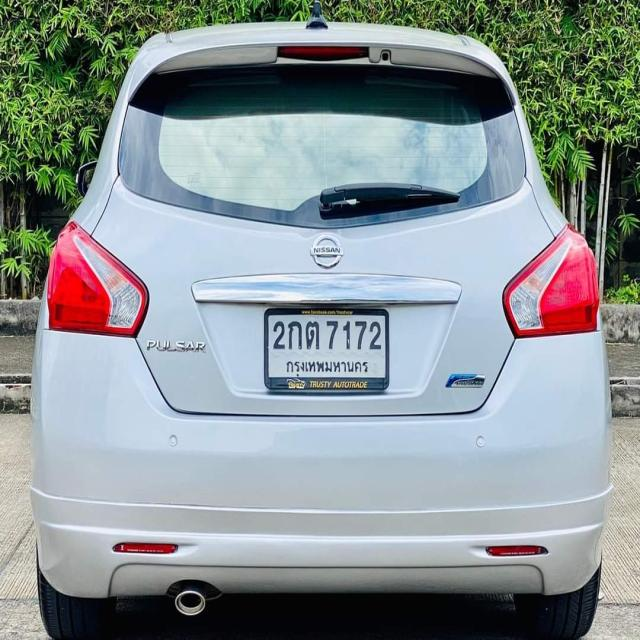license_plate: (264, 306, 391, 395)
